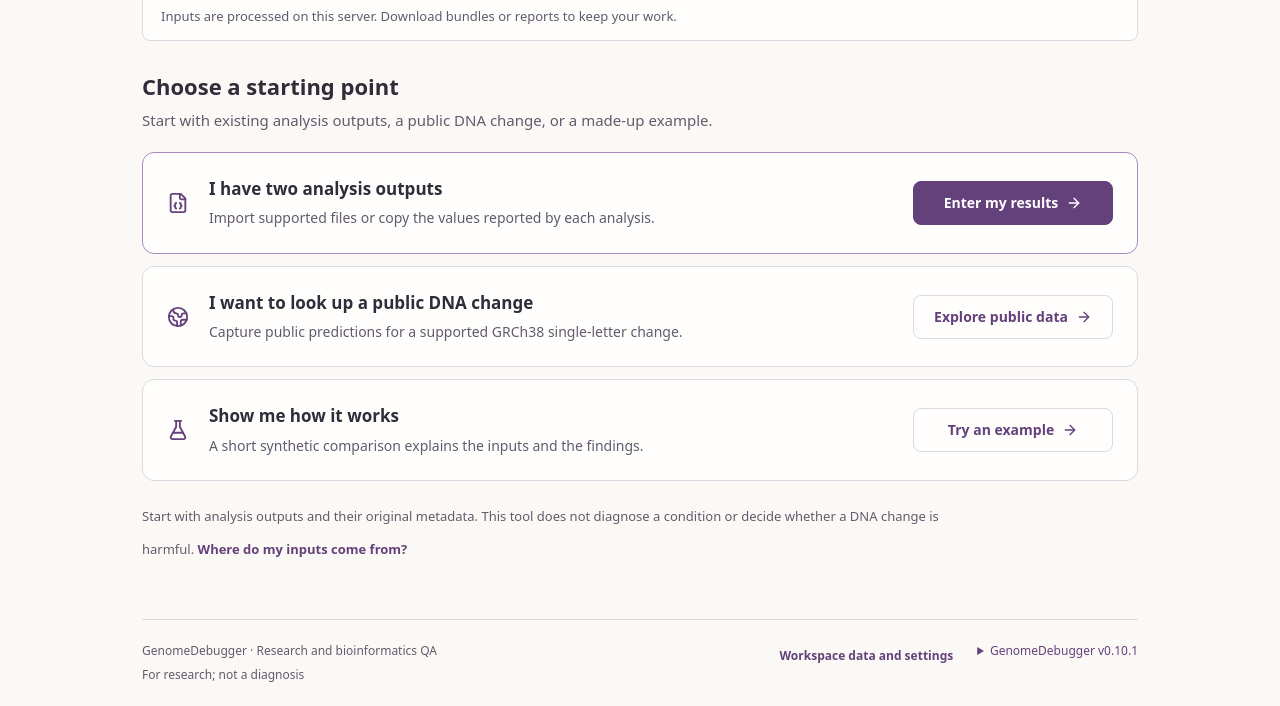
Scenario: hosted data lookup failure preserves accurate server-processing and transfer instructions
This screenshot has width=1280, height=706.
(page scrolled)
Click the button "Workspace data and settings" at coordinates (866, 656), box 780,642 -> 953,670
(page scrolled)
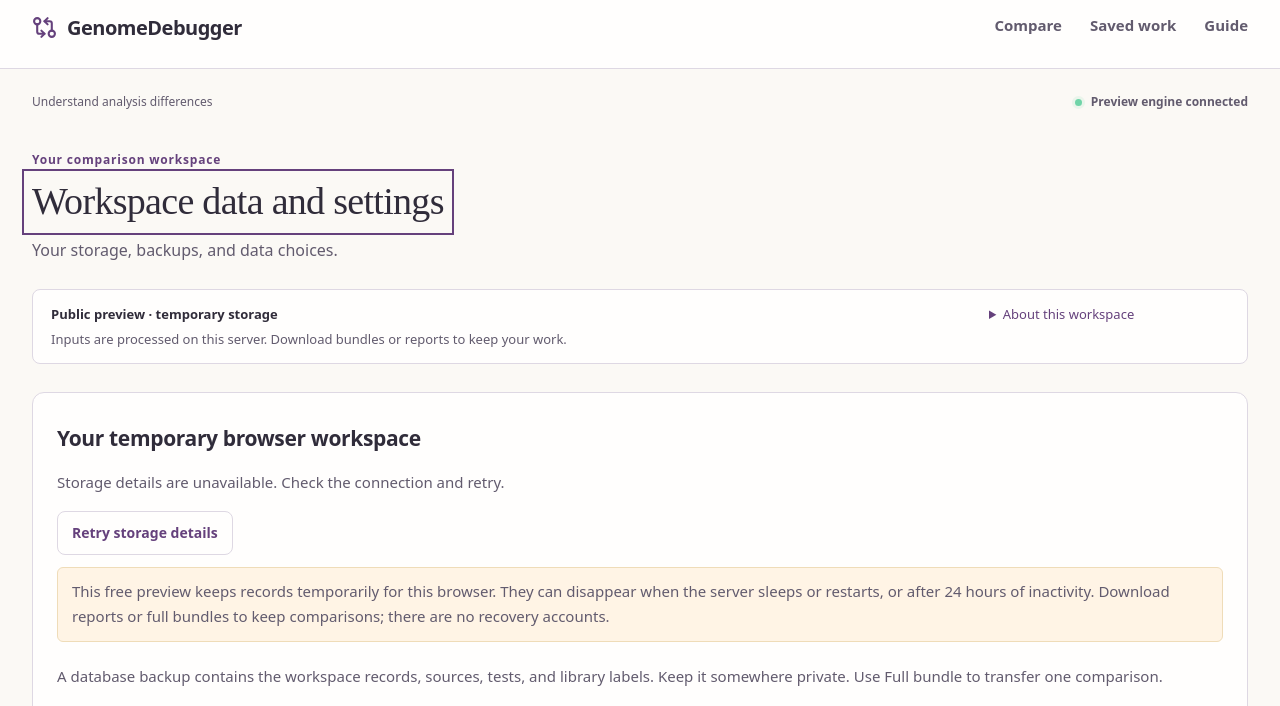
Expected: the element named "Public preview storage" shows "Inputs are processed on this server", 51,330 -> 567,348
Expected: the message "Storage details are unavailable. Check the connection and retry." is shown, 57,472 -> 504,492
